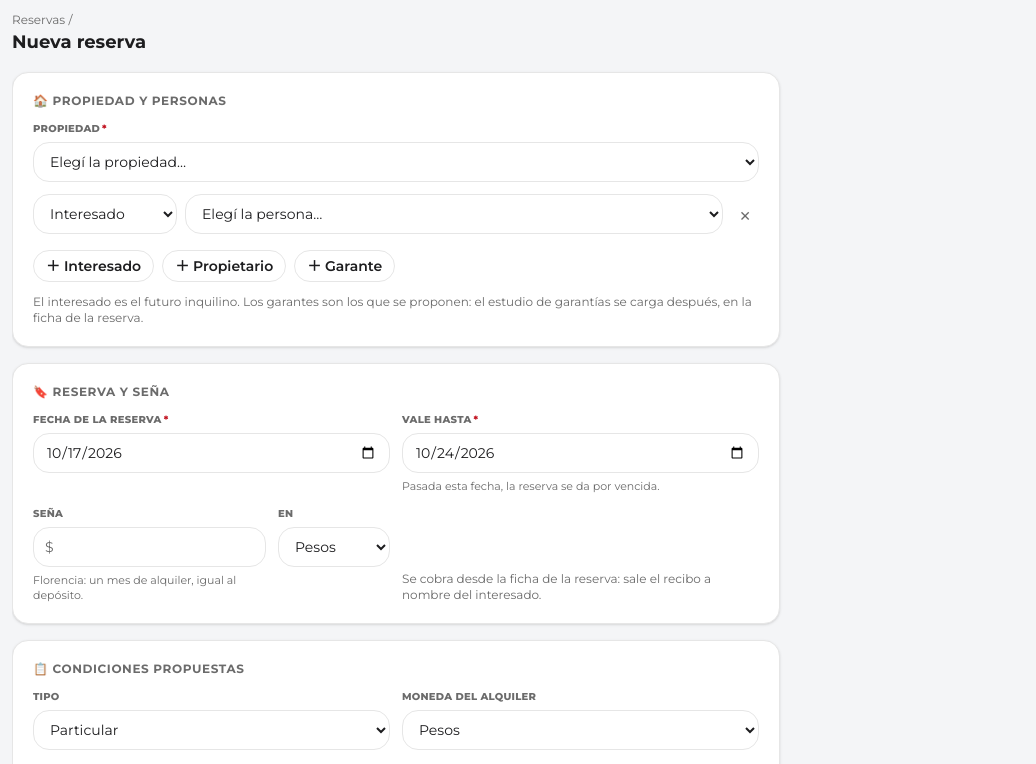
Test case: ReservaForm (regla 154) › al elegir la propiedad propone los propietarios de su último contrato
Select "Mitre 100 2° A · Rosario" in the dropdown labelled "Propiedad*" at point(396, 162), box left=33, top=142, right=759, bottom=182
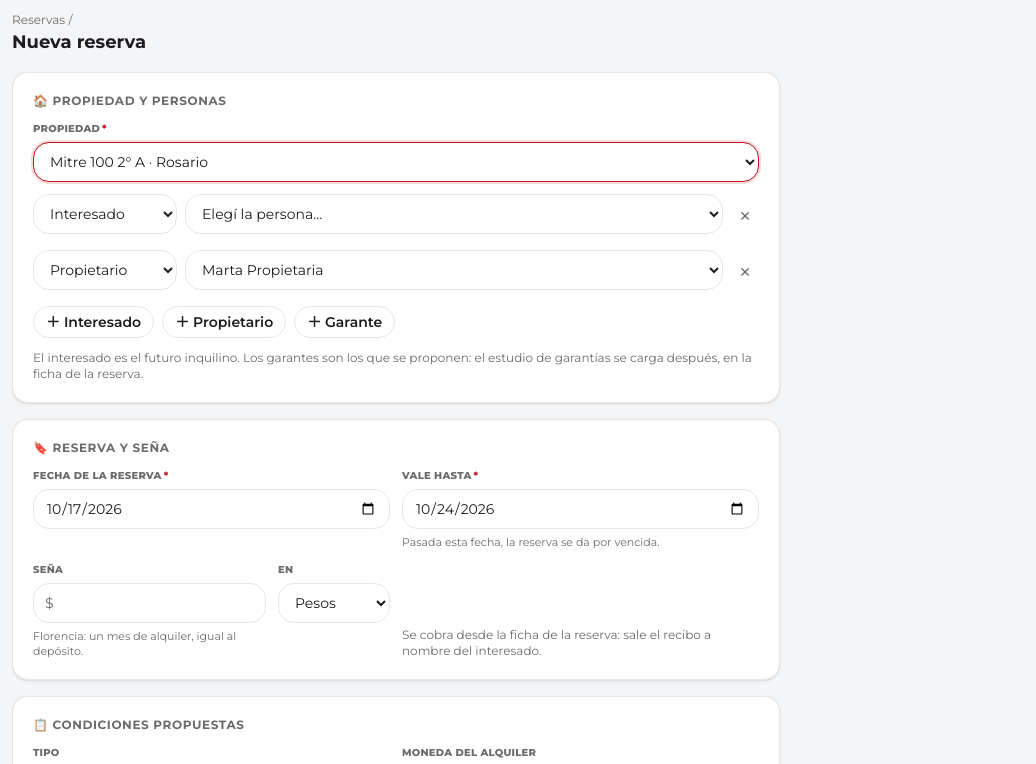
Result: the dropdown named "Persona (propietario)" shows "Marta Propietaria" at left=185, top=250, right=723, bottom=290
